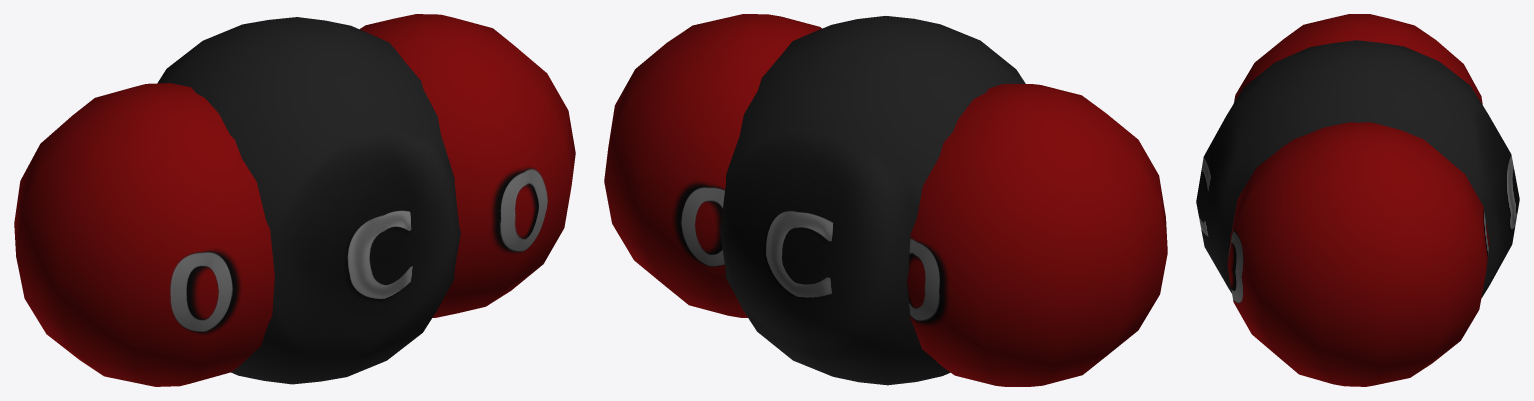
File: Carbon_Dioxide.gltf
3 views of the same model, side by side, from view 1: azimuth 30°, elevation 25°; view 2: azimuth 150°, elevation 25°; view 3: azimuth 270°, elevation 25° (orthographic). The views are drawn at different scales.
Parts seen in each view (by area): view 1: Carbon_Dioxide; view 2: Carbon_Dioxide; view 3: Carbon_Dioxide.
Boxes of the visible parts, x1,y1,x2,y2 form: Carbon_Dioxide: (14, 14, 575, 386); Carbon_Dioxide: (604, 14, 1167, 386); Carbon_Dioxide: (1196, 14, 1519, 386).
Bounding box in the file's own units: 2.5 × 1.54 × 1.54.
2 materials, 2 textured.
